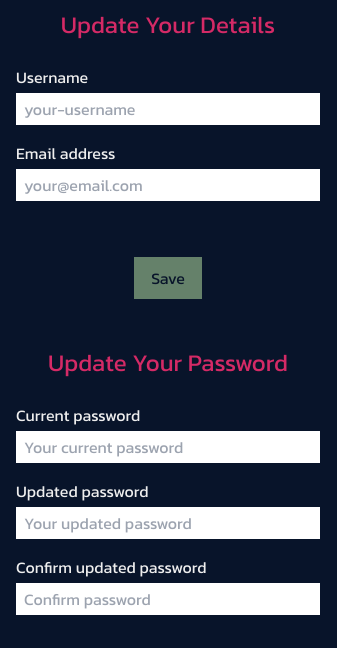
Test: Profile tests: › Update user tests: › It should remove errors from the display once an update has been made to the form
Type "new-username" into the field titled "username".
click(168, 109); type("new-username")  # box [16, 93, 320, 125]
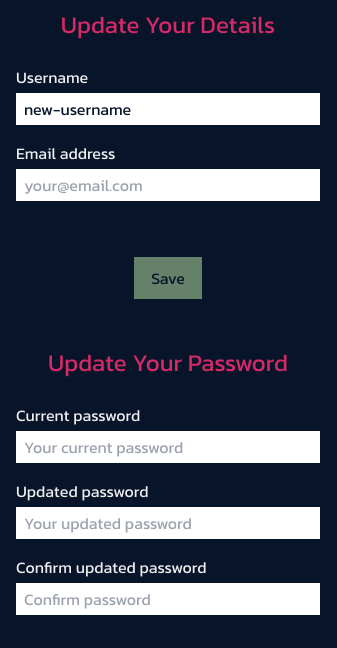
Type "new@emailaddress.com" into the field titled "email address".
click(168, 185); type("new@emailaddress.com")  # box [16, 169, 320, 201]
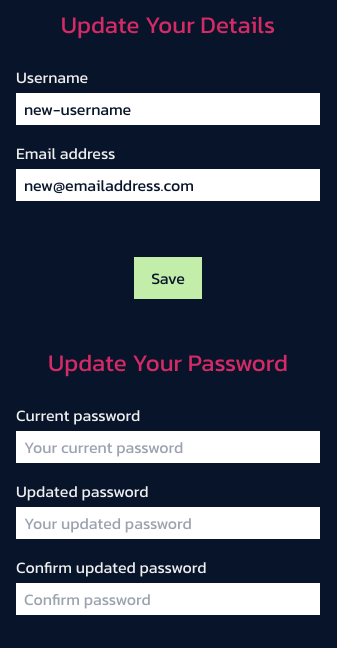
Click the button titled "submit".
click(168, 278)  # box [134, 257, 202, 299]
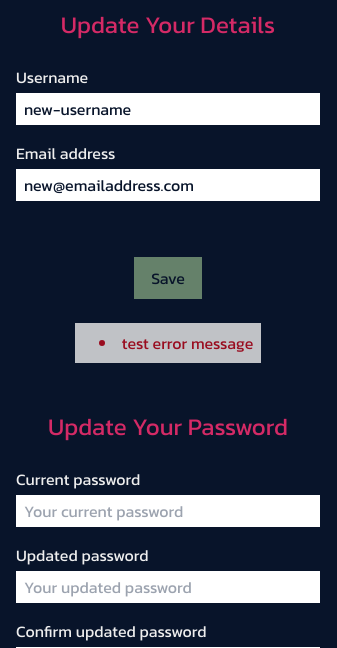
Replace the text in the field titled "email address" with "updated.again@email.com" at (168, 185), box [16, 169, 320, 201]
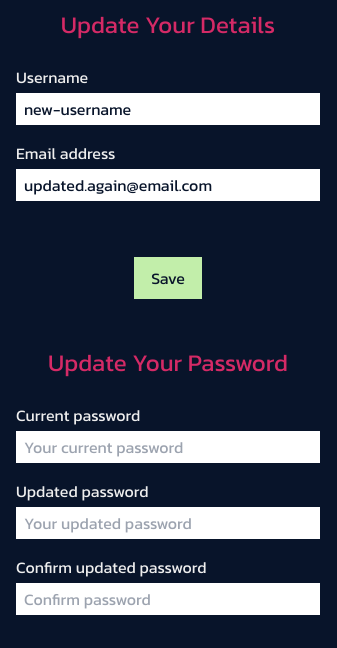
Expected: the list item "test error message" is gone
